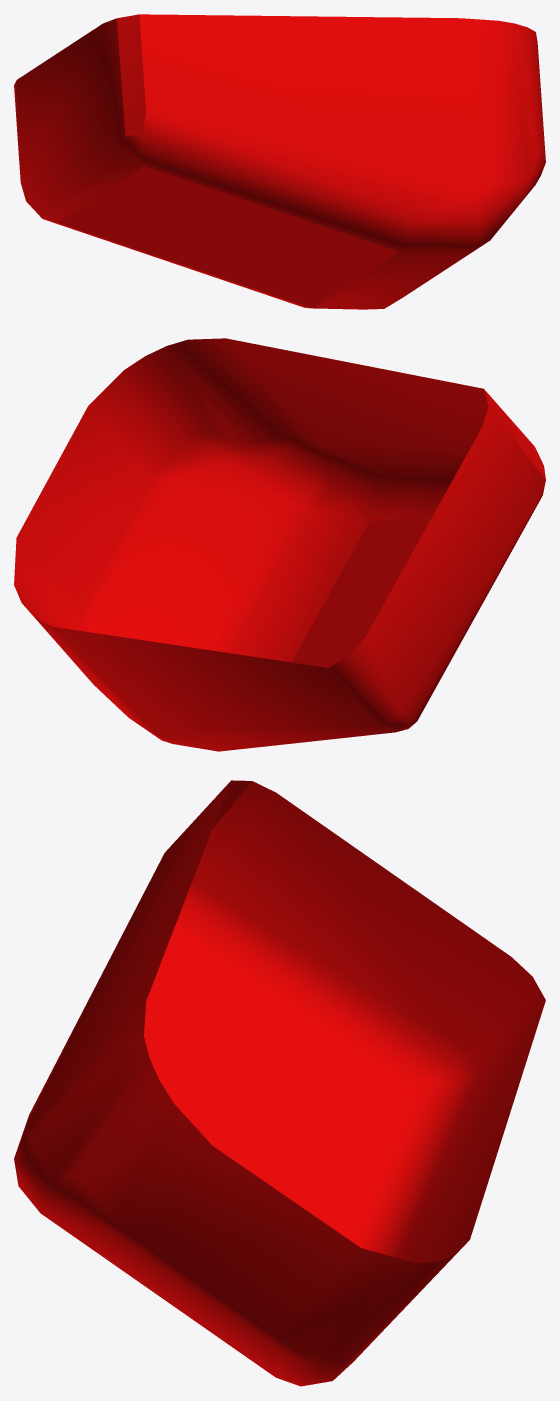
File: rafale_highlight_04_DAL_gauche.fbx
The picture shows the model from 3 angles, top to bottom: view 1: azimuth 30°, elevation 25°; view 2: azimuth 150°, elevation 25°; view 3: azimuth 270°, elevation 25°; orthographic projection. The views are drawn at different scales.
Parts seen in each view (by area): view 1: rafale_highlight_04_DAL_gauche; view 2: rafale_highlight_04_DAL_gauche; view 3: rafale_highlight_04_DAL_gauche.
Part boxes in pixels (x1,y1,x2,y2): rafale_highlight_04_DAL_gauche: [14, 14, 545, 309]; rafale_highlight_04_DAL_gauche: [14, 338, 545, 751]; rafale_highlight_04_DAL_gauche: [14, 780, 545, 1386].
Size of the model in its own units: 4.82 by 4 by 4.29.
